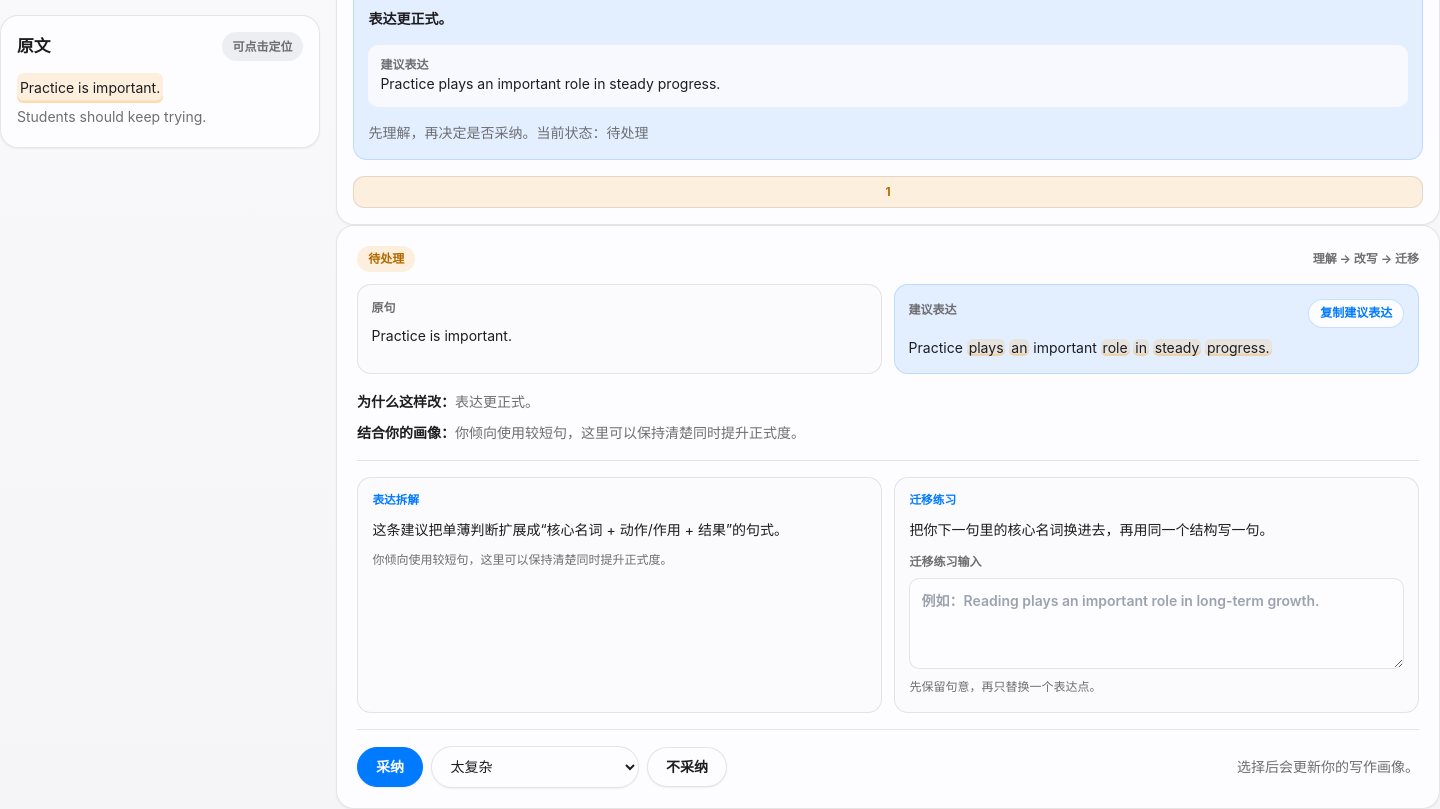
Scenario: InteractiveEssayReview › replaces the highlighted original sentence after accepting a suggestion
The image size is (1440, 809).
(page scrolled)
Click the button "采纳".
click(390, 767)  # box [357, 747, 423, 787]
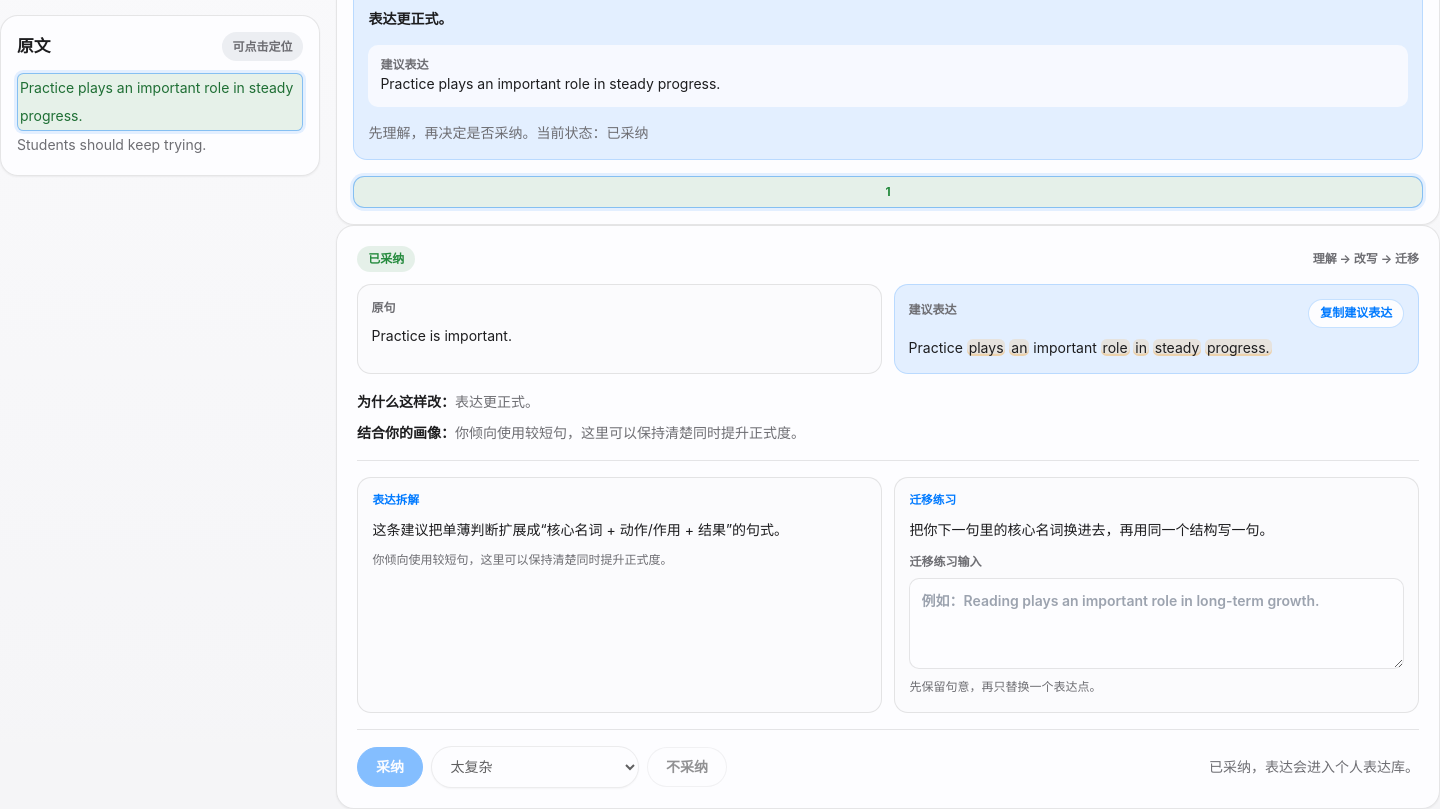
Check: the button with test id "review-sentence-suggestion-1" reads "Practice plays an important role in steady progress.", box [17, 73, 303, 131]
